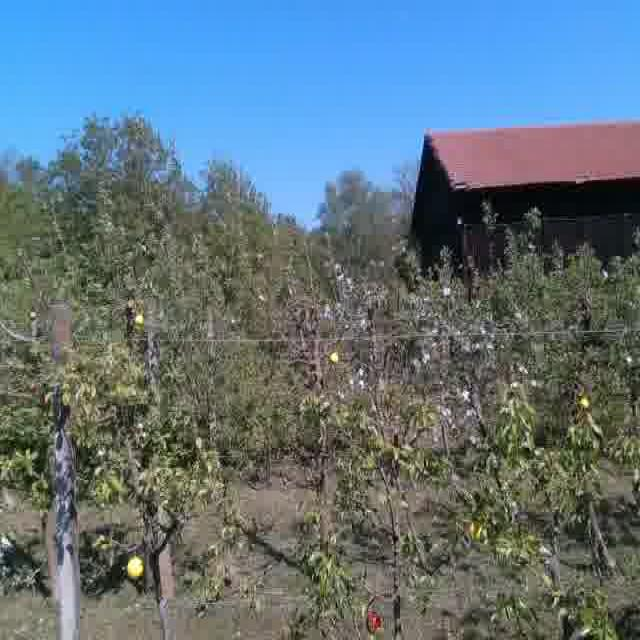red: (366, 608, 386, 635)
yellow: (123, 554, 144, 581), (132, 308, 148, 331), (330, 346, 341, 364)
